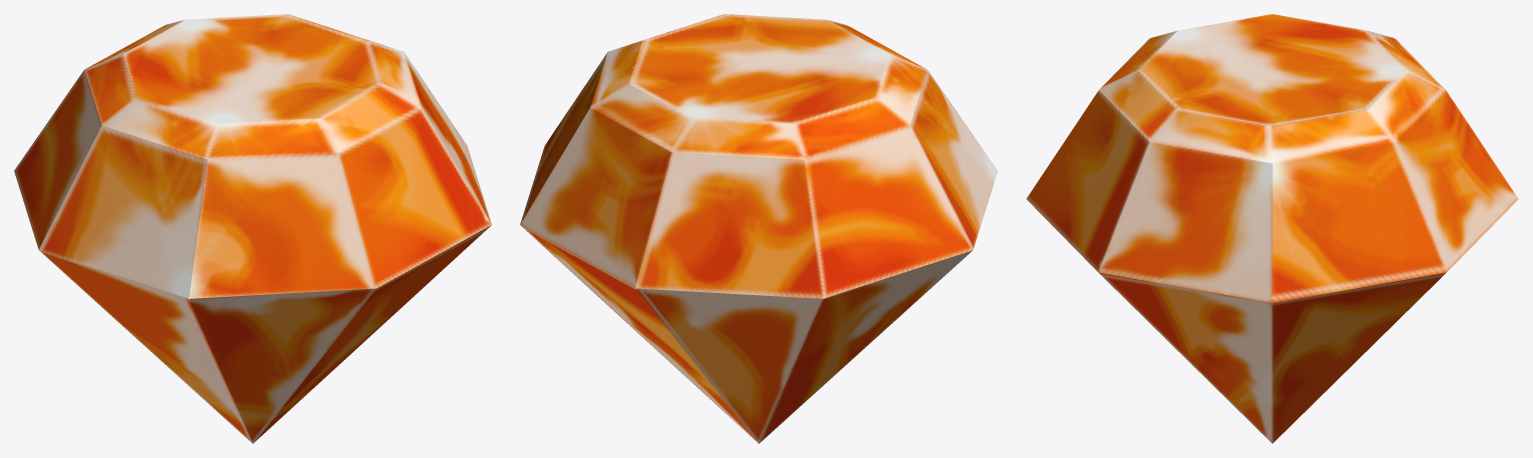
File: stone_orange_004.fbx
The picture shows the model from 3 angles, left to right: view 1: azimuth 30°, elevation 25°; view 2: azimuth 150°, elevation 25°; view 3: azimuth 270°, elevation 25°; orthographic projection.
Parts seen in each view (by area): view 1: syone_orange_004; view 2: syone_orange_004; view 3: syone_orange_004.
Part boxes in pixels (x1,y1,x2,y2): syone_orange_004: (14, 14, 491, 443); syone_orange_004: (520, 14, 997, 443); syone_orange_004: (1026, 14, 1518, 443).
Size of the model in its own units: 6.85 by 5.73 by 6.85.
